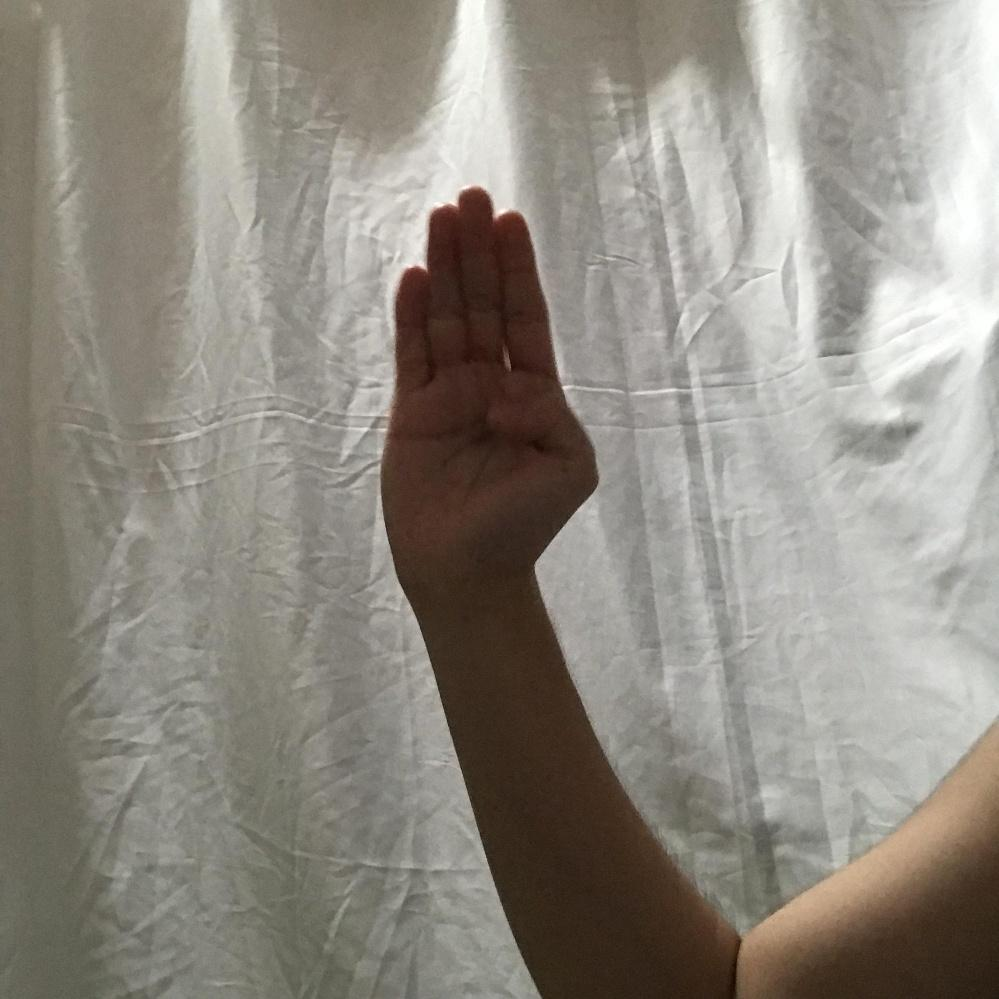b: (377, 187, 598, 563)
